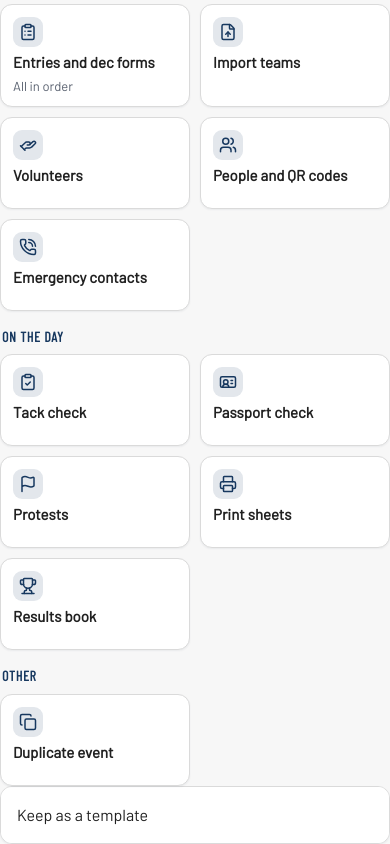
Test case: EventToolsPage merged into OperationsPage › keeps duplicate-event form values when the API rejects them
This screenshot has width=390, height=844.
(page scrolled)
Click the link "Duplicate event" at (95, 740), box top-left (0, 694), bottom-right (190, 786)
(page scrolled)
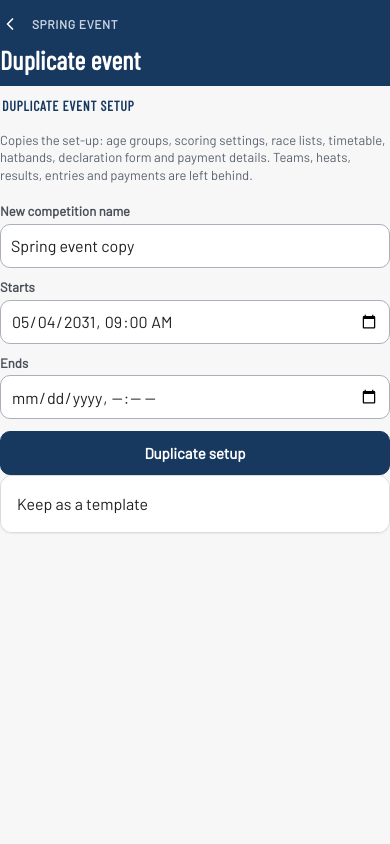
Replace the text in the field labelled "New competition name" with "Autumn championship" at (195, 246), box top-left (0, 224), bottom-right (389, 268)
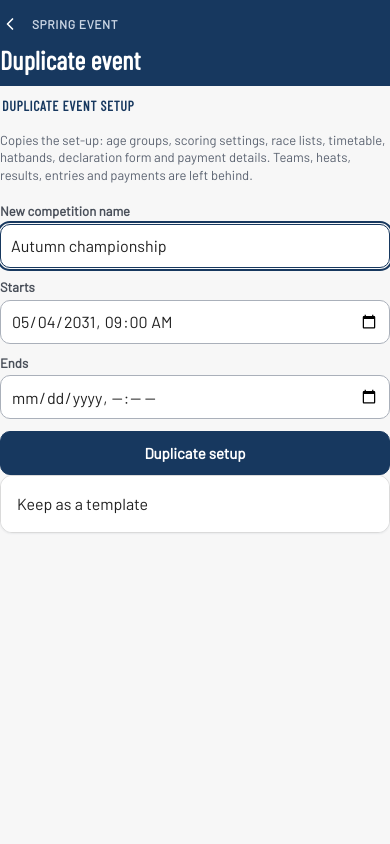
Click the button "Duplicate setup" at (195, 453), box top-left (0, 431), bottom-right (389, 475)
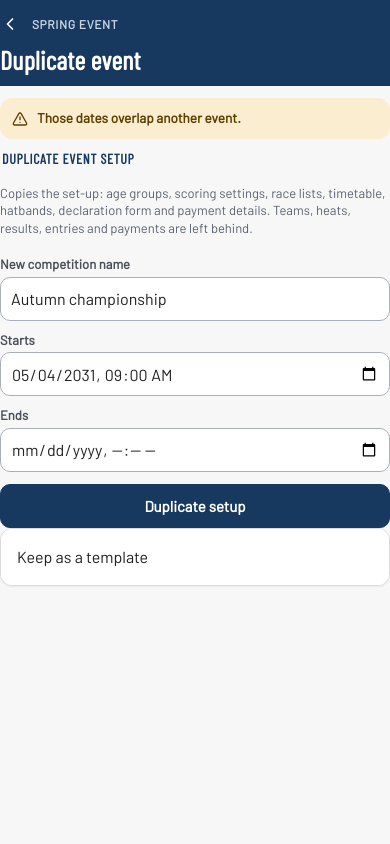
Now the message reads "Those dates overlap another event.", box top-left (37, 109), bottom-right (241, 126)
